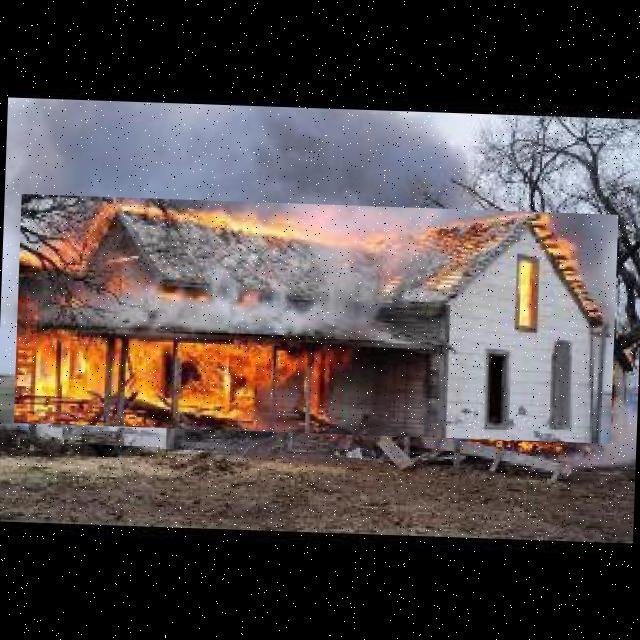fire: (13, 194, 618, 444)
